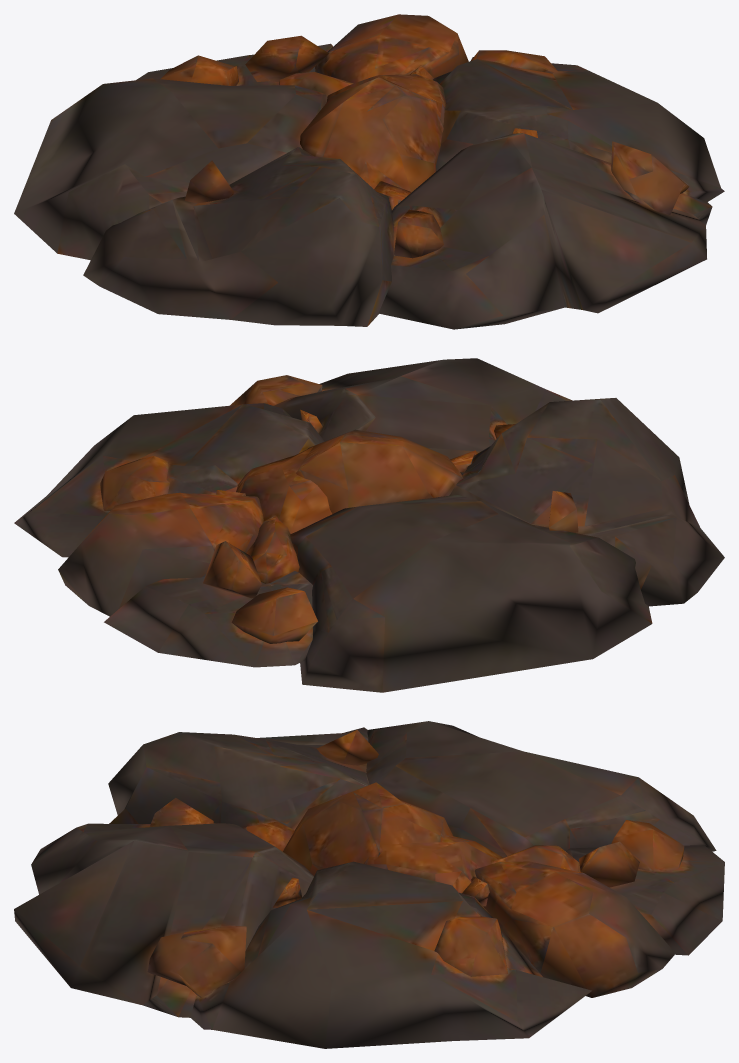
File: filon_fer.glb
The picture shows the model from 3 angles, top to bottom: view 1: azimuth 30°, elevation 25°; view 2: azimuth 150°, elevation 25°; view 3: azimuth 270°, elevation 25°; orthographic projection.
Size of the model in its own units: 0.9131 by 0.148 by 0.9141.
Materials: 1 (1 with a texture image).
